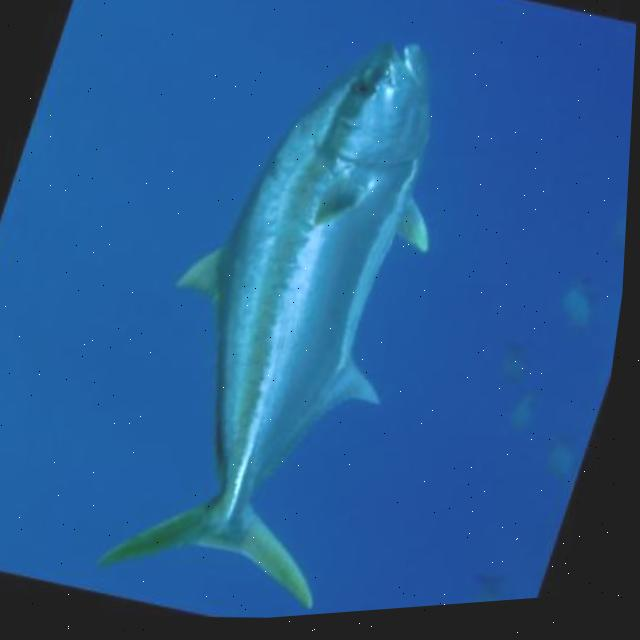Kingfish: (95, 18, 462, 633)
